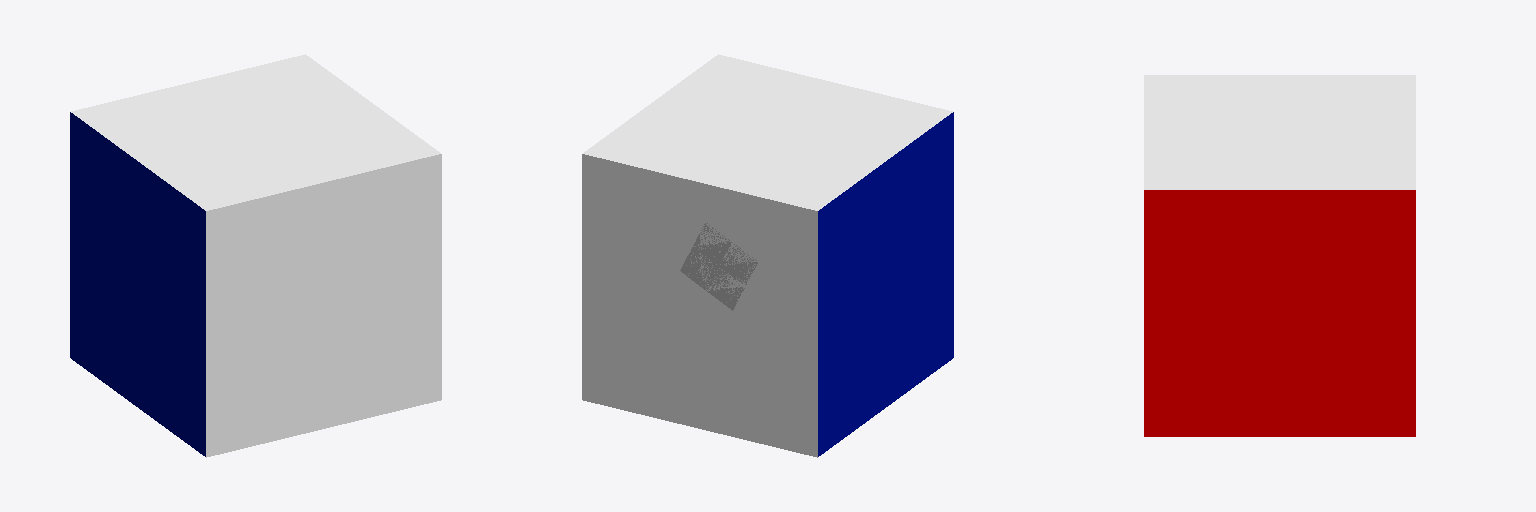
File: scene_subdivide_1.obj
3 views of the same model, side by side, from view 1: azimuth 30°, elevation 25°; view 2: azimuth 150°, elevation 25°; view 3: azimuth 270°, elevation 25° (orthographic).
Parts seen in each view (by area): view 1: Cube; view 2: Cube; view 3: Cube.
Part boxes in pixels (x1,y1,x2,y2): Cube: (70,54,441,457); Cube: (582,54,953,457); Cube: (1144,75,1415,436).
Bounding box in the file's own units: 4 × 4 × 4.